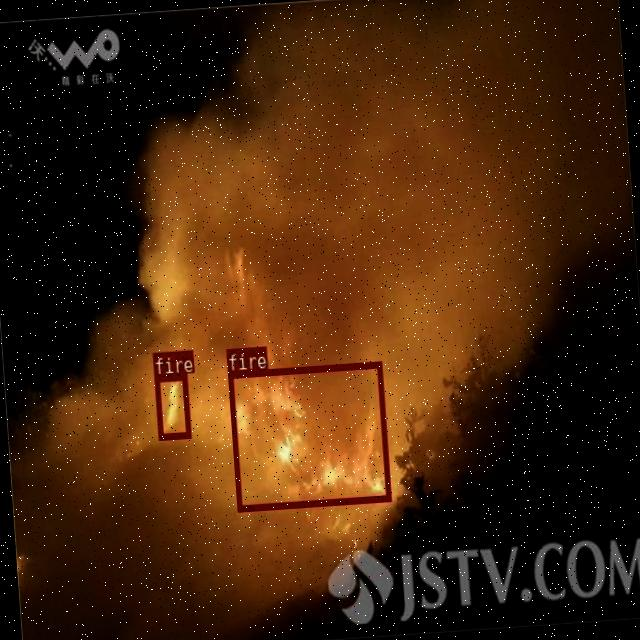fire: (226, 360, 389, 510), (153, 372, 190, 438)
